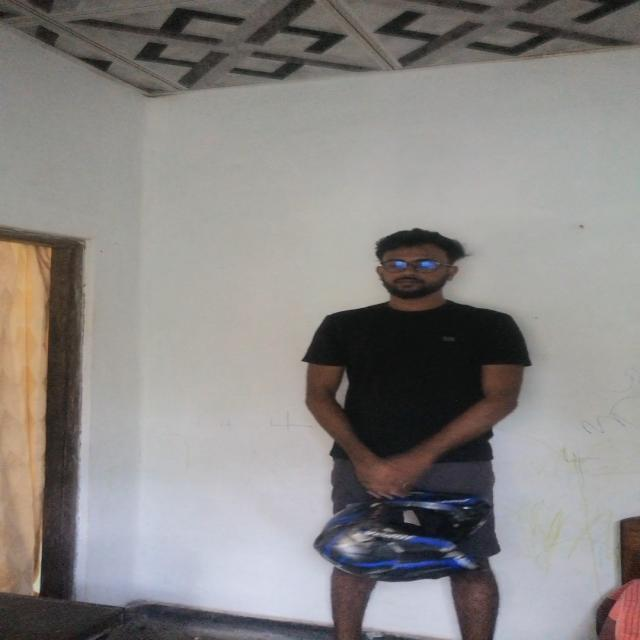Person: (278, 222, 546, 633)
